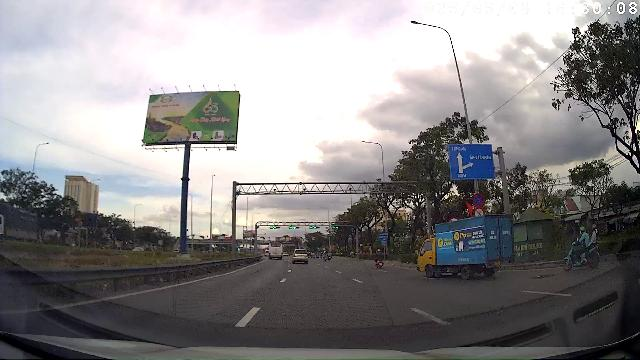130-cam-dung-va-do-xe: (472, 192, 485, 207)
